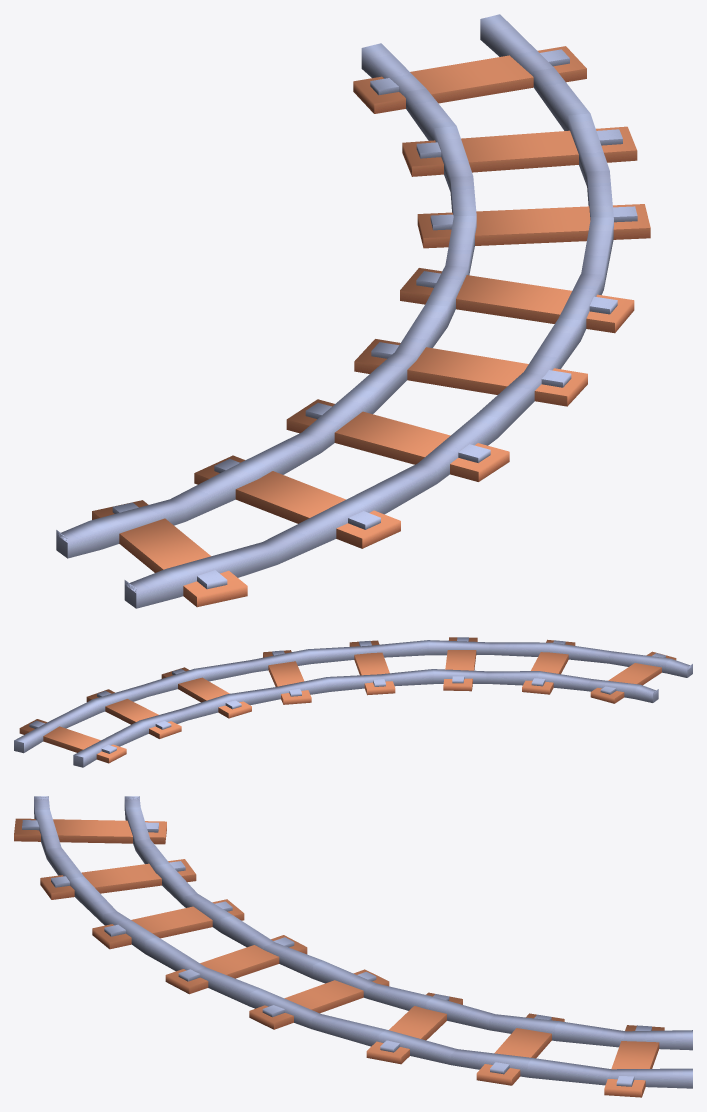
The model's file is railroad-damaged-corner-large.glb.
3 views of the same model, one above another, from view 1: azimuth 30°, elevation 25°; view 2: azimuth 150°, elevation 25°; view 3: azimuth 270°, elevation 25° (orthographic). The views are drawn at different scales.
Visible parts, largest first — view 1: railroad-damaged-corner-large; view 2: railroad-damaged-corner-large; view 3: railroad-damaged-corner-large.
Boxes of the visible parts, left/top/right/bottom form: railroad-damaged-corner-large: left=56, top=14, right=650, bottom=608; railroad-damaged-corner-large: left=14, top=637, right=692, bottom=767; railroad-damaged-corner-large: left=14, top=796, right=692, bottom=1097.
Size of the model in its own units: 4.49 by 0.1 by 4.48.
1 material, 1 textured.
